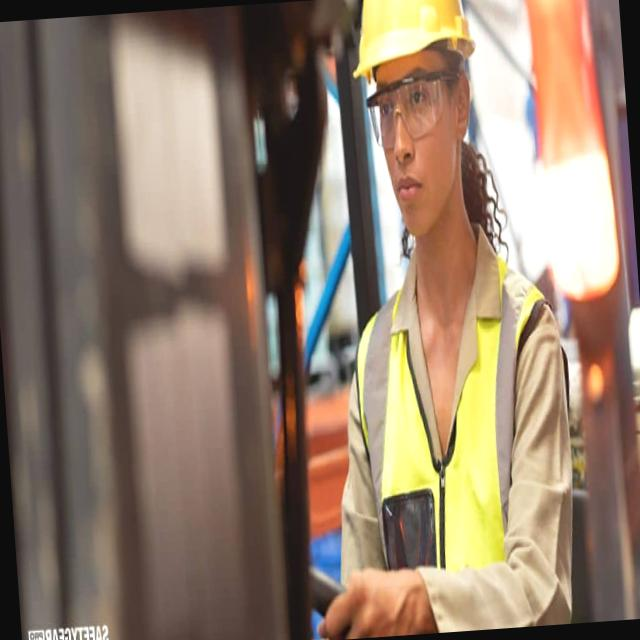goggles: (365, 62, 472, 154)
helmet: (350, 0, 480, 62)
vest: (351, 255, 564, 570)
